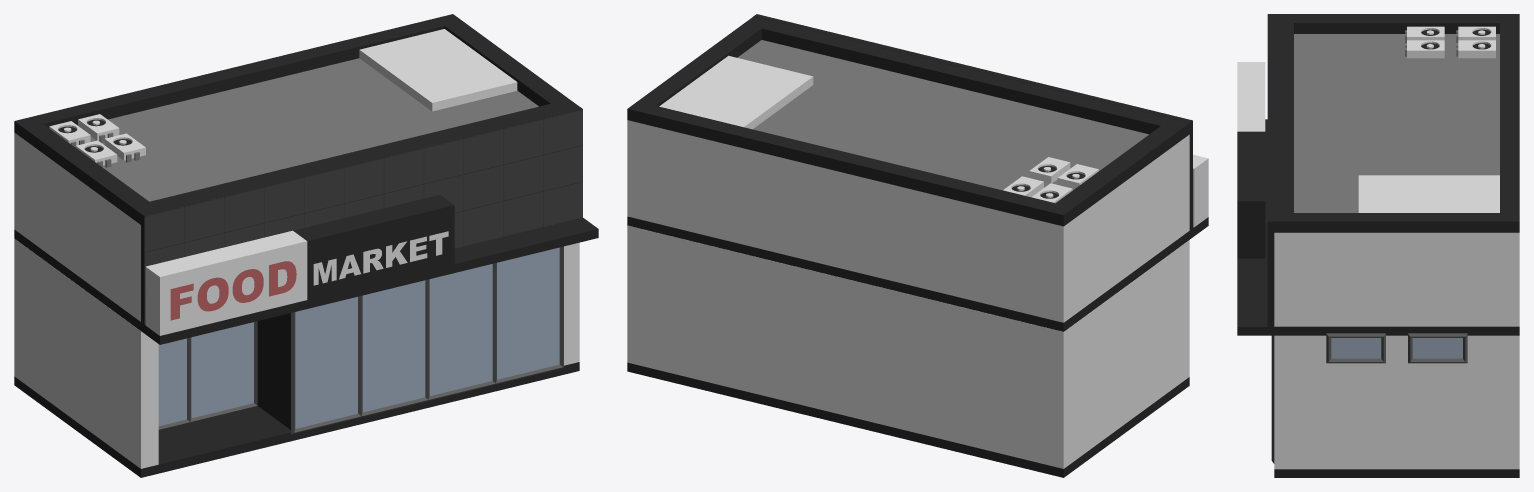
The model's file is Shop.fbx.
The picture shows the model from 3 angles, left to right: view 1: azimuth 30°, elevation 25°; view 2: azimuth 150°, elevation 25°; view 3: azimuth 270°, elevation 25°; orthographic projection. The views are drawn at different scales.
Parts seen in each view (by area): view 1: Shop_LOD0; view 2: Shop_LOD0; view 3: Shop_LOD0.
Part boxes in pixels (x1,y1,x2,y2): Shop_LOD0: (14,14,598,477); Shop_LOD0: (627,14,1208,477); Shop_LOD0: (1237,14,1519,477).
Size of what is drawn, in the model's own units: 1956 by 1121 by 1120.
